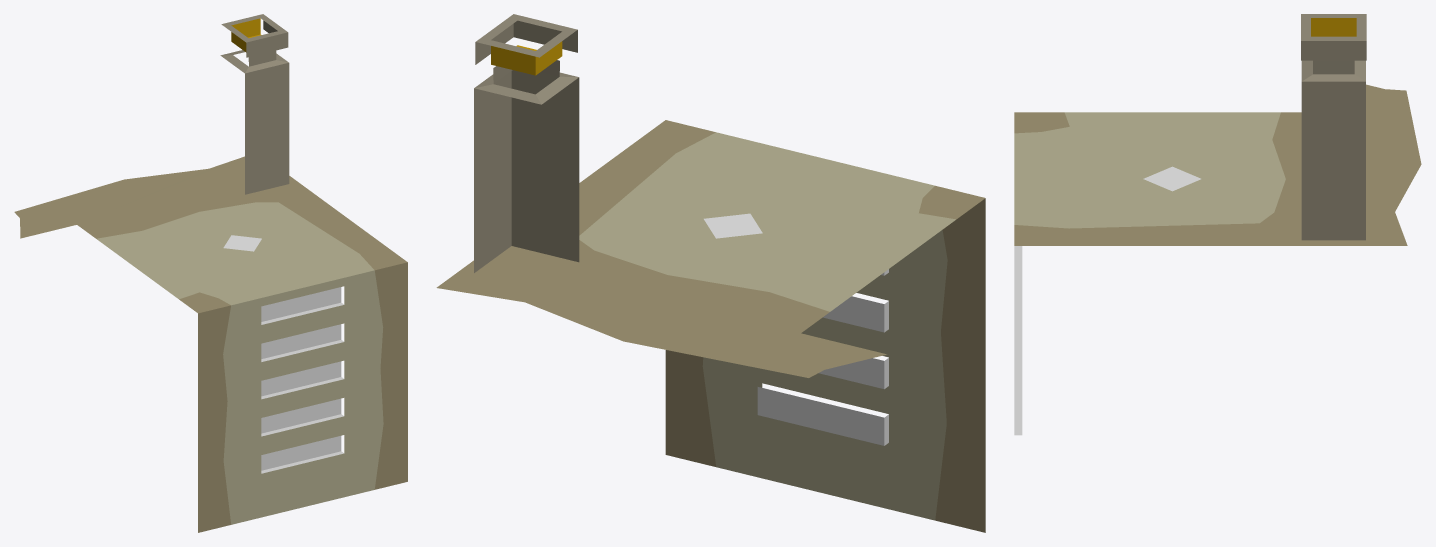
The model's file is 90S Right to Left.fbx.
The picture shows the model from 3 angles, left to right: view 1: azimuth 30°, elevation 25°; view 2: azimuth 150°, elevation 25°; view 3: azimuth 270°, elevation 25°; orthographic projection. The views are drawn at different scales.
Parts seen in each view (by area): view 1: polySurface7484; view 2: polySurface7484; view 3: polySurface7484.
Part boxes in pixels (box(x1,y1,x2,y2)): polySurface7484: box(14, 14, 407, 532); polySurface7484: box(436, 14, 985, 532); polySurface7484: box(1014, 14, 1421, 435).
Bounding box in the file's own units: 127 × 169 × 129.
